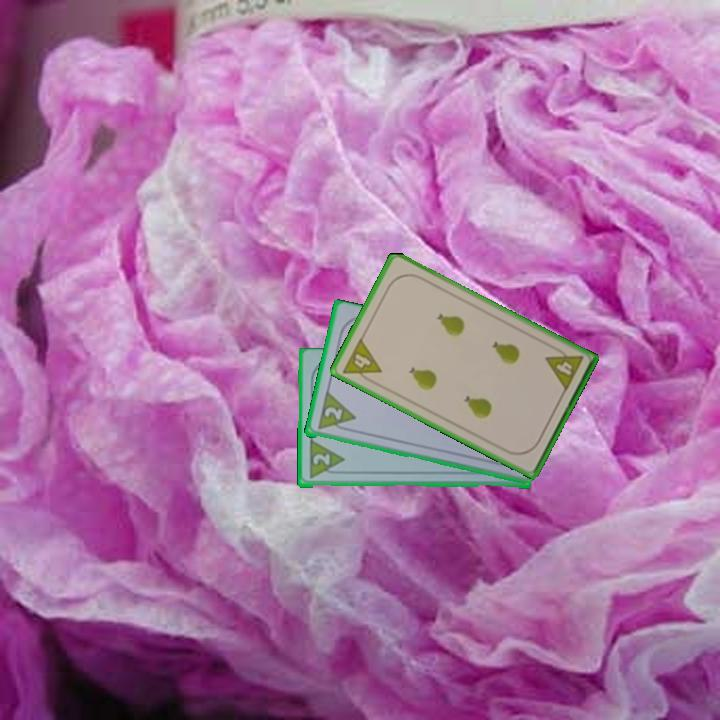2p: (306, 439, 346, 482), (320, 403, 345, 424)
4p: (338, 335, 384, 387), (542, 342, 586, 394)
